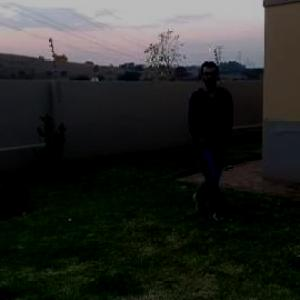follow: (188, 59, 239, 209)
